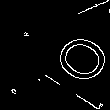O_NW: (33, 20, 106, 84)
